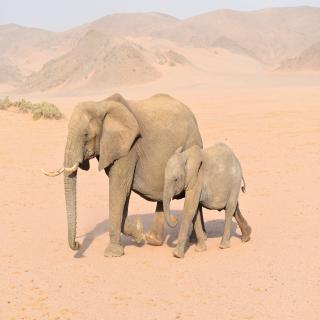Elephant: (42, 91, 207, 261), (163, 140, 260, 261)
